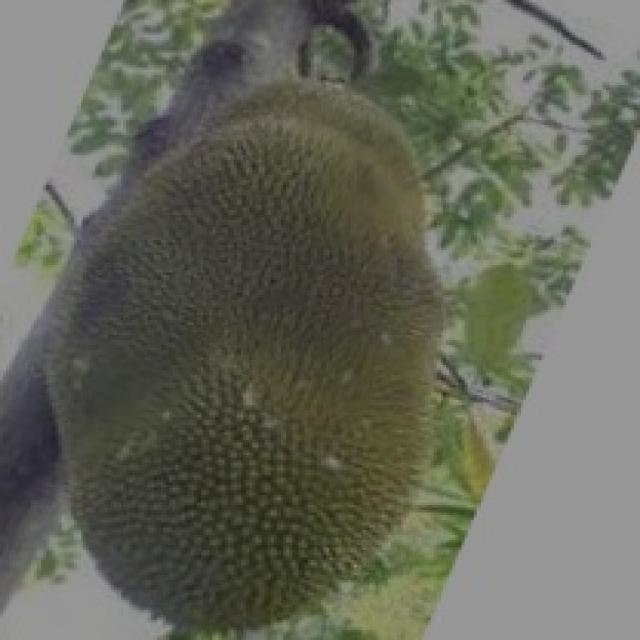Fruit: (62, 35, 486, 380)
